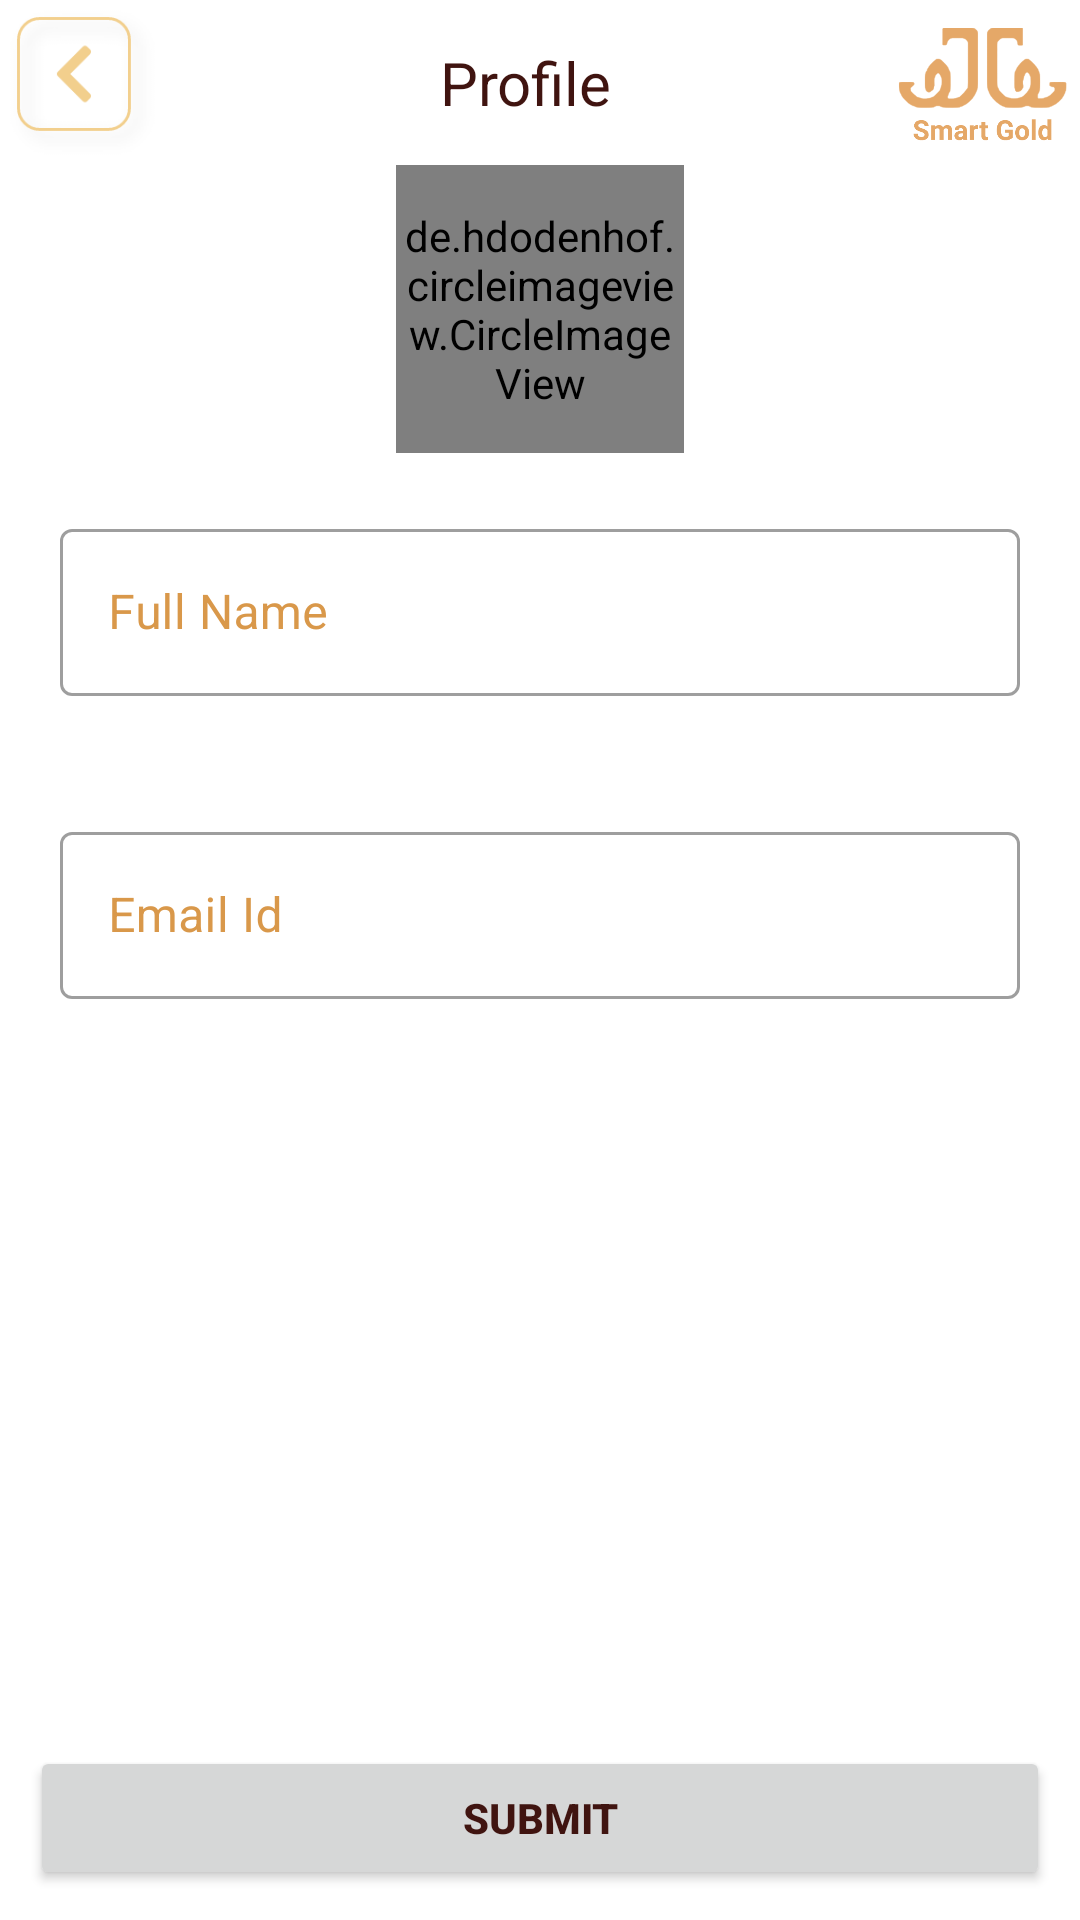

Screen size 1080w x 1920h. Icon name, then its box in pixels as [left=x1, top=y1, right=x2, bottom=y2]:
backbtn: [left=17, top=17, right=131, bottom=131]
